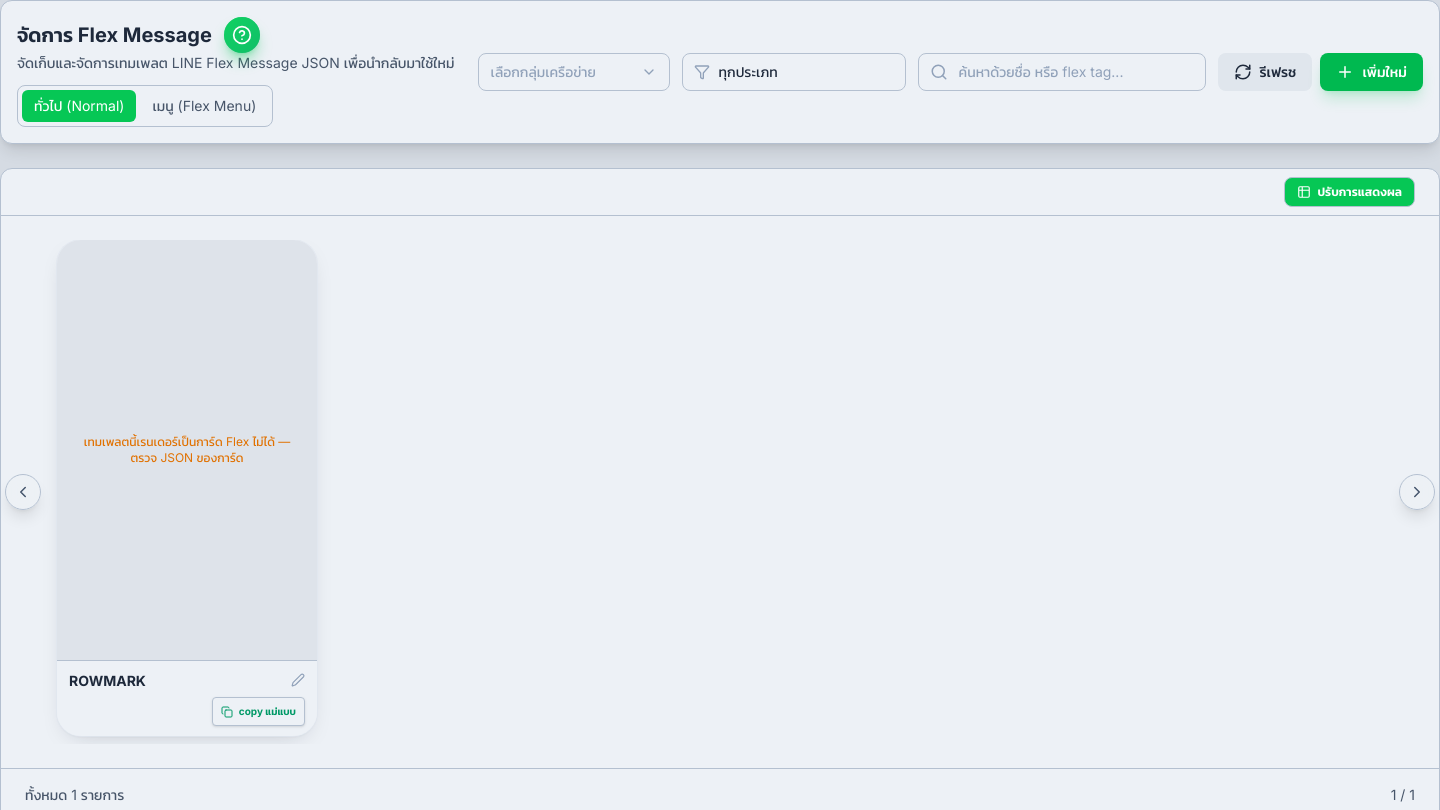
Test: [REQ-CONTENT] FlexMessageList › a failed read opens the error alert and keeps the rows on screen
expect the text "ROWMARK" is shown: met, box [69,672,146,689]
In the field with placeholder "ค้นหาด้วยชื่อ หรือ flex tag...": (1062, 72) [918,53,1206,91], type "ROWM"
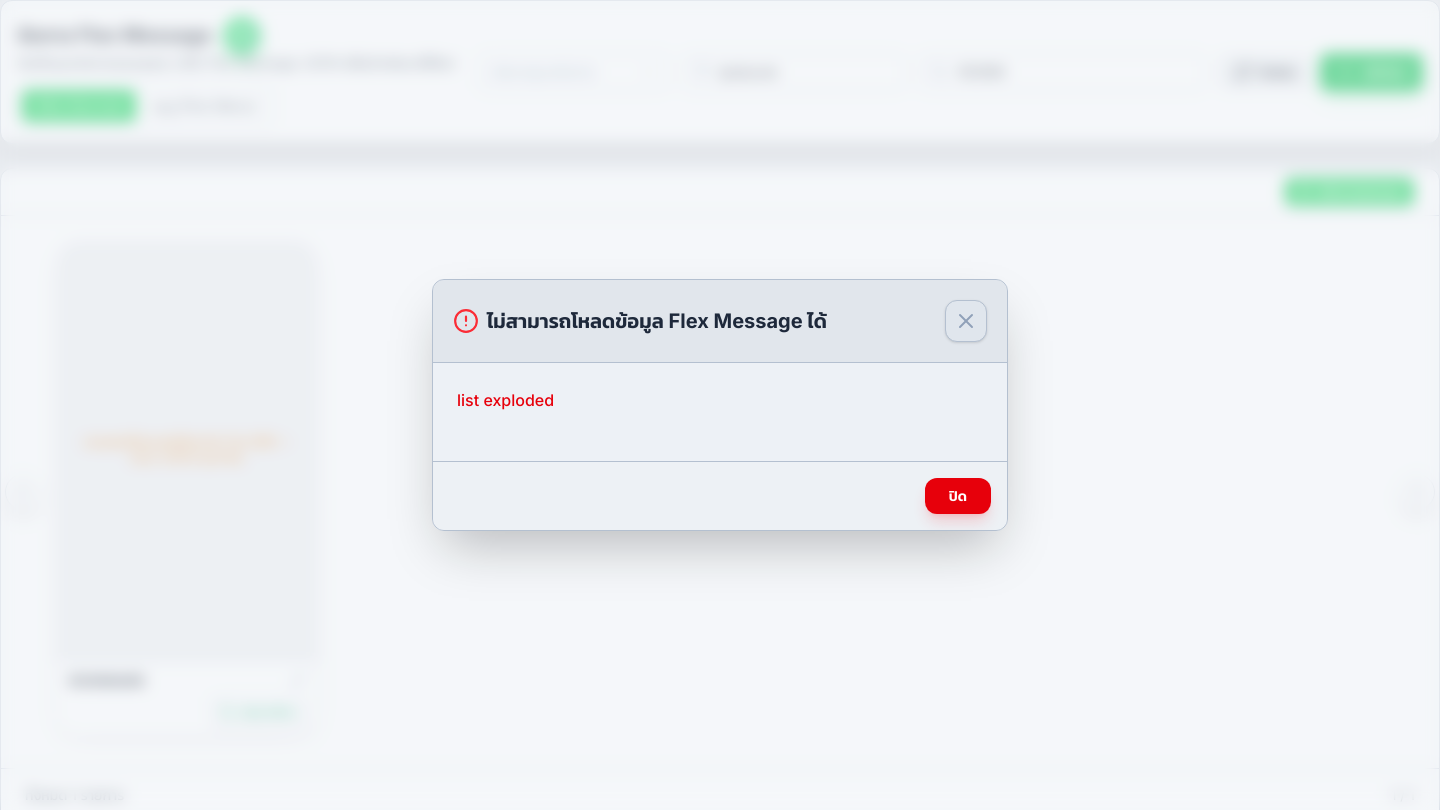
expect the text "ROWMARK" is shown: met, box [69,672,146,689]
expect the heading "ไม่สามารถโหลดข้อมูล Flex Message ได้" is shown: met, box [453,307,827,335]
